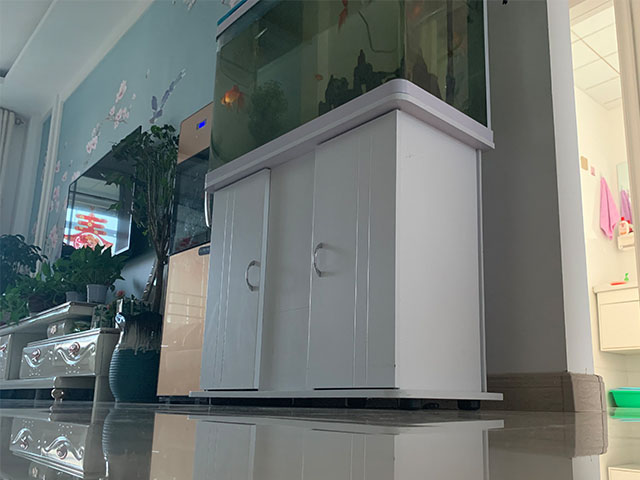cabinet: (188, 77, 506, 413), (1, 302, 120, 403)
